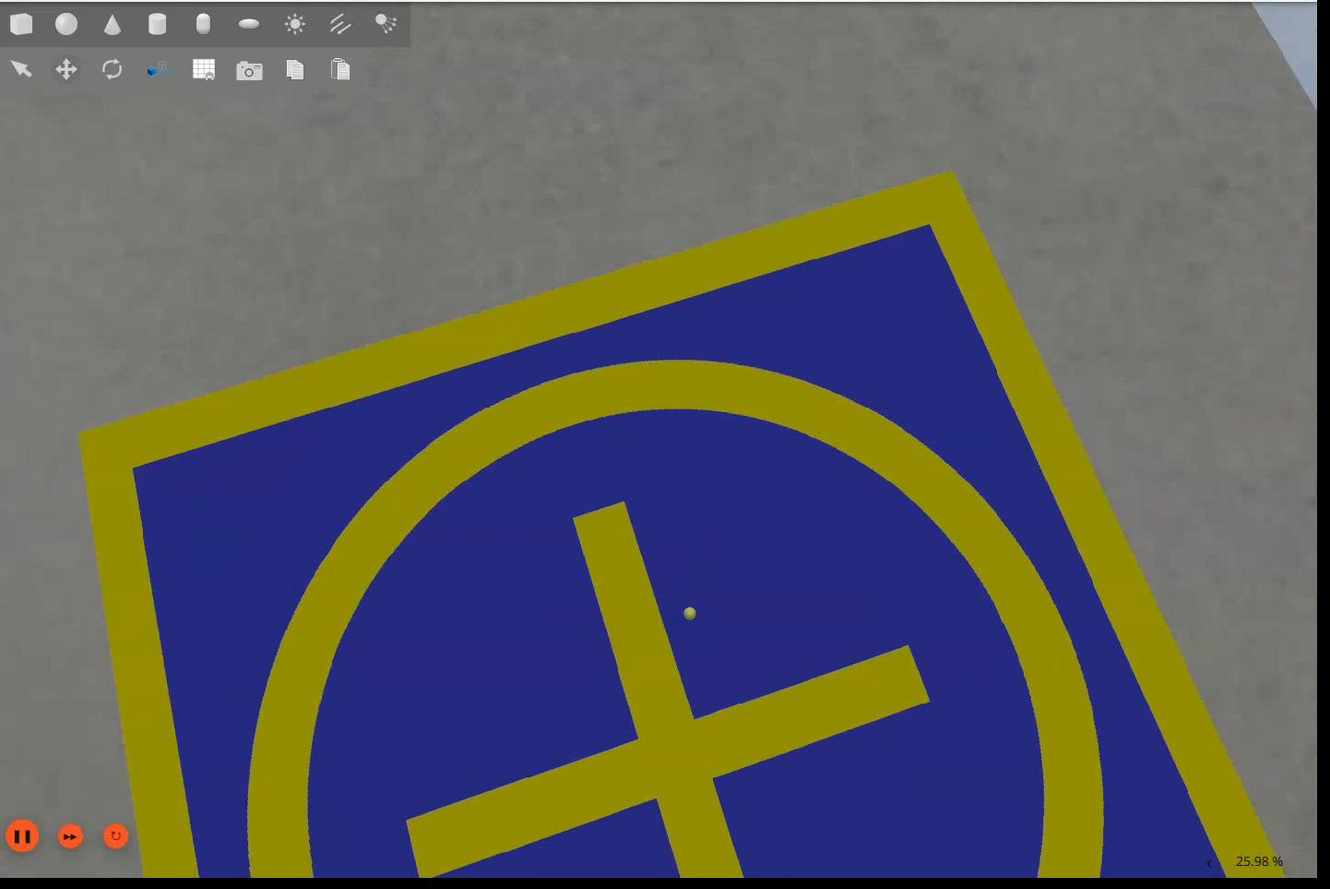small_base: (77, 171, 1285, 879)
